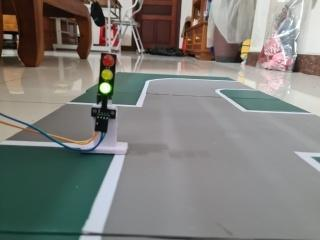green: (94, 46, 120, 102)
